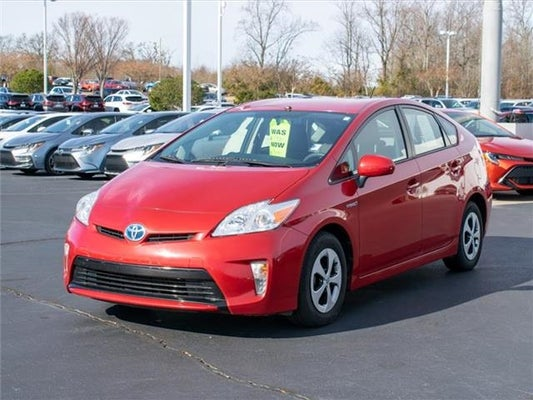Toyota Prius: (59, 96, 494, 332)
